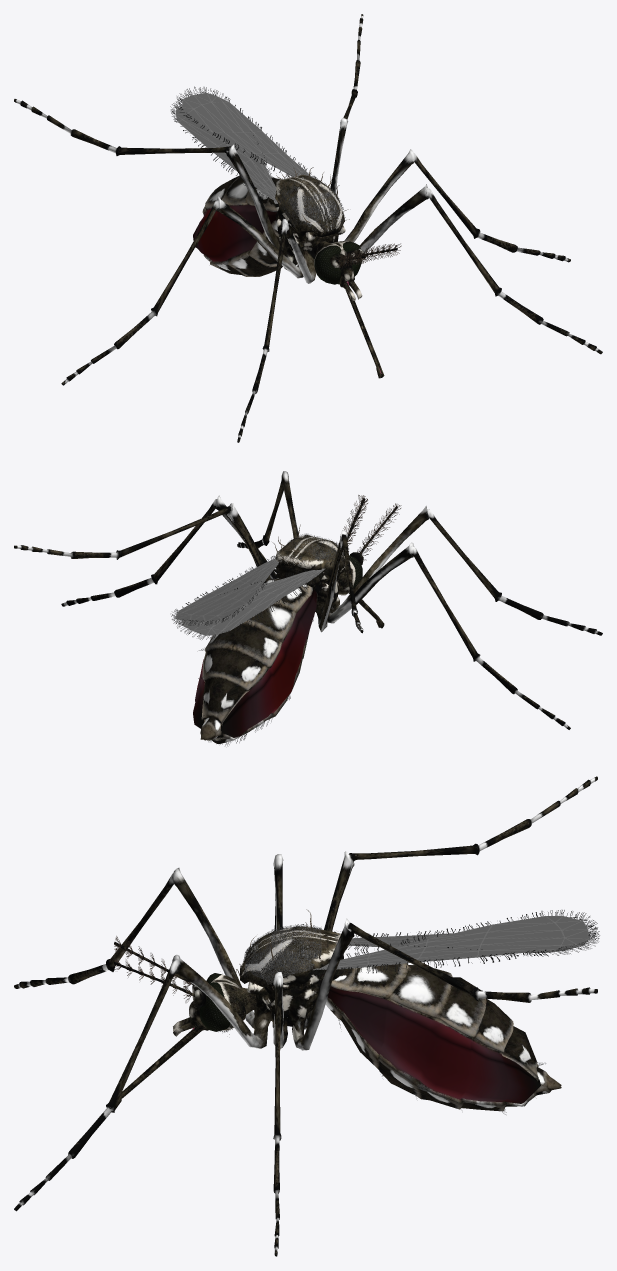
Rendered from Websquito.glb.
3 views of the same model, one above another, from view 1: azimuth 30°, elevation 25°; view 2: azimuth 150°, elevation 25°; view 3: azimuth 270°, elevation 25° (orthographic). The views are drawn at different scales.
Parts seen in each view (by area): view 1: mosquito_main.015, mosquito_main.013, Plane.001, mosquito_main.014, mosquito_main.011; view 2: mosquito_main.015, Plane.001, mosquito_main.013, mosquito_main.011, mosquito_main.014; view 3: mosquito_main.015, Plane.001, mosquito_main.013, mosquito_main.014, mosquito_main.011.
Part boxes in pixels (<box>): mosquito_main.015: <box>14,14,602,442</box>; mosquito_main.013: <box>170,86,349,257</box>; Plane.001: <box>193,175,287,276</box>; mosquito_main.014: <box>276,176,345,232</box>; mosquito_main.011: <box>335,243,401,269</box>; mosquito_main.015: <box>14,471,602,729</box>; Plane.001: <box>193,578,317,743</box>; mosquito_main.013: <box>171,524,350,745</box>; mosquito_main.011: <box>336,495,401,560</box>; mosquito_main.014: <box>275,533,344,567</box>; mosquito_main.015: <box>14,776,597,1256</box>; Plane.001: <box>325,963,561,1111</box>; mosquito_main.013: <box>220,909,599,1114</box>; mosquito_main.014: <box>242,924,340,984</box>; mosquito_main.011: <box>114,936,191,1002</box>.
Size of the model in its own units: 15.12 by 5.26 by 12.06.
Materials: 5 (5 with a texture image).
